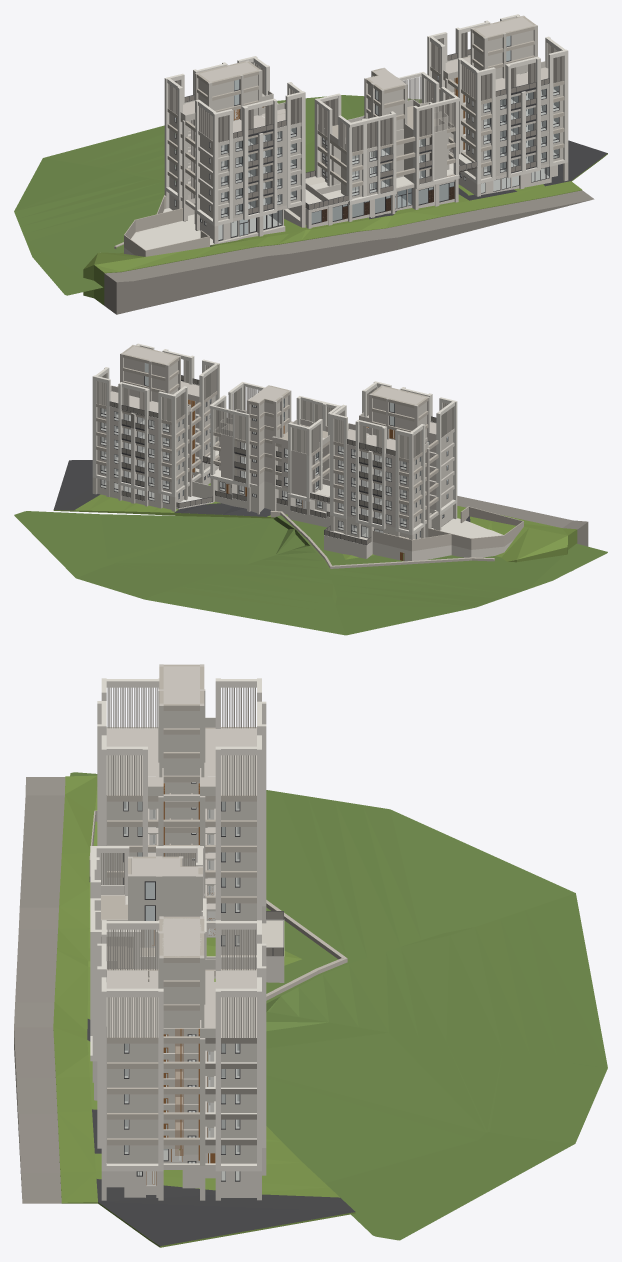
The model's file is exterior.glb.
The picture shows the model from 3 angles, top to bottom: view 1: azimuth 30°, elevation 25°; view 2: azimuth 150°, elevation 25°; view 3: azimuth 270°, elevation 25°; orthographic projection. The views are drawn at different scales.
Parts seen in each view (by area): view 1: site_terrain, site_stone_gray, A_wall_main, A_frame_white, site_grass, C_wall_main, C_frame_white, B_wall_main, B_frame_white, A_paving, B_louver, A_slab (+21 smaller); view 2: site_terrain, A_wall_main, C_wall_main, A_frame_white, B_wall_main, C_frame_white, A_paving, site_grass, A_slab, B_frame_white, B_slab, site_asphalt (+20 smaller); view 3: site_terrain, C_wall_main, site_grass, A_wall_main, site_stone_gray, C_frame_white, site_asphalt, A_frame_white, C_louver, A_louver, A_paving, C_paving (+11 smaller).
Part boxes in pixels (box(x1,y1,x2,y2)): site_terrain: box(14, 95, 421, 295); site_stone_gray: box(104, 190, 594, 314); A_wall_main: box(169, 60, 301, 220); A_frame_white: box(164, 56, 305, 226); site_grass: box(83, 153, 607, 305); C_wall_main: box(432, 15, 563, 178); C_frame_white: box(427, 14, 568, 184); B_wall_main: box(305, 67, 449, 210); B_frame_white: box(314, 72, 459, 205); A_paving: box(124, 61, 285, 256); B_louver: box(318, 76, 455, 152); A_slab: box(124, 190, 311, 255); site_terrain: box(14, 511, 607, 635); A_wall_main: box(334, 385, 454, 530); C_wall_main: box(97, 345, 215, 492); A_frame_white: box(330, 381, 457, 535); B_wall_main: box(219, 385, 329, 503); C_frame_white: box(92, 343, 219, 497); A_paving: box(333, 386, 523, 551); site_grass: box(53, 483, 577, 562); A_slab: box(324, 502, 513, 561); B_frame_white: box(209, 382, 341, 501); B_slab: box(210, 469, 329, 527); site_asphalt: box(53, 460, 470, 521); site_terrain: box(70, 772, 607, 1240); C_wall_main: box(106, 916, 256, 1165); site_grass: box(53, 775, 355, 1247); A_wall_main: box(106, 664, 256, 920); site_stone_gray: box(14, 777, 65, 1203); C_frame_white: box(97, 920, 266, 1171); site_asphalt: box(87, 877, 355, 1246); A_frame_white: box(97, 678, 266, 920); C_louver: box(107, 929, 255, 1037); A_louver: box(107, 687, 255, 795); A_paving: box(89, 664, 256, 903); C_paving: box(107, 916, 256, 1145).
Bounding box in the file's own units: 121 × 34.5 × 67.91.
